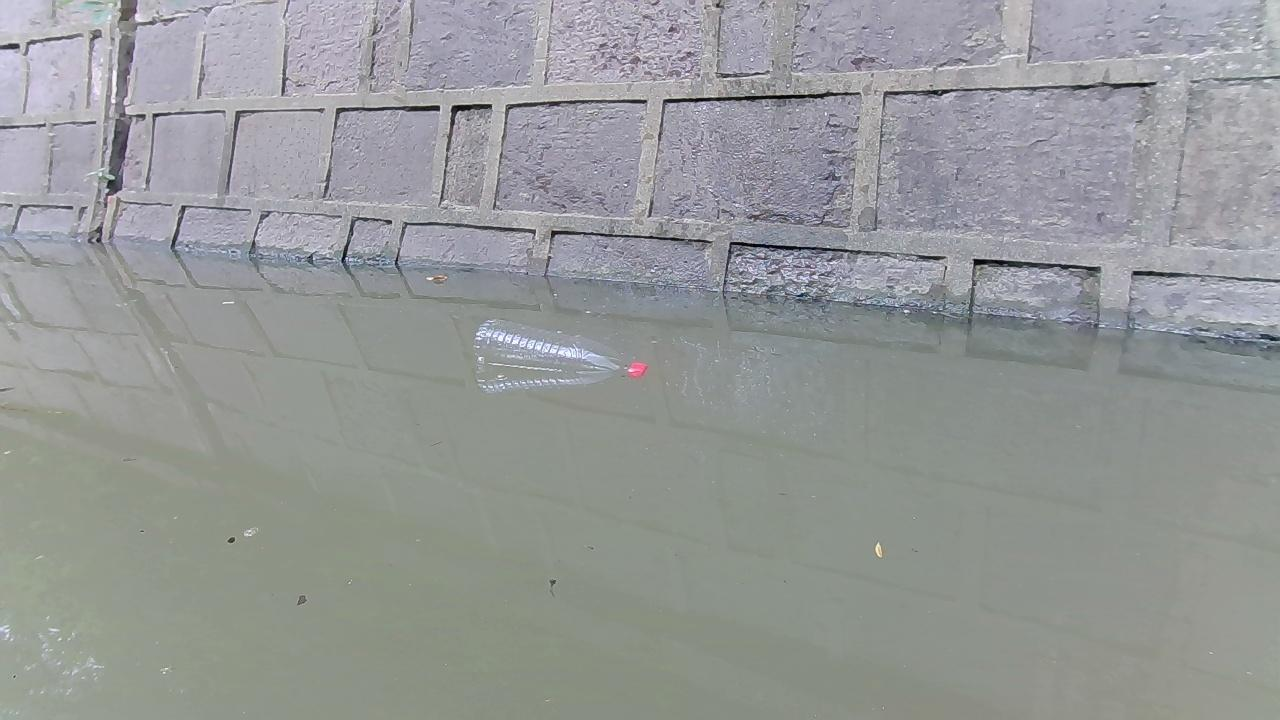bottle: (471, 319, 648, 374)
